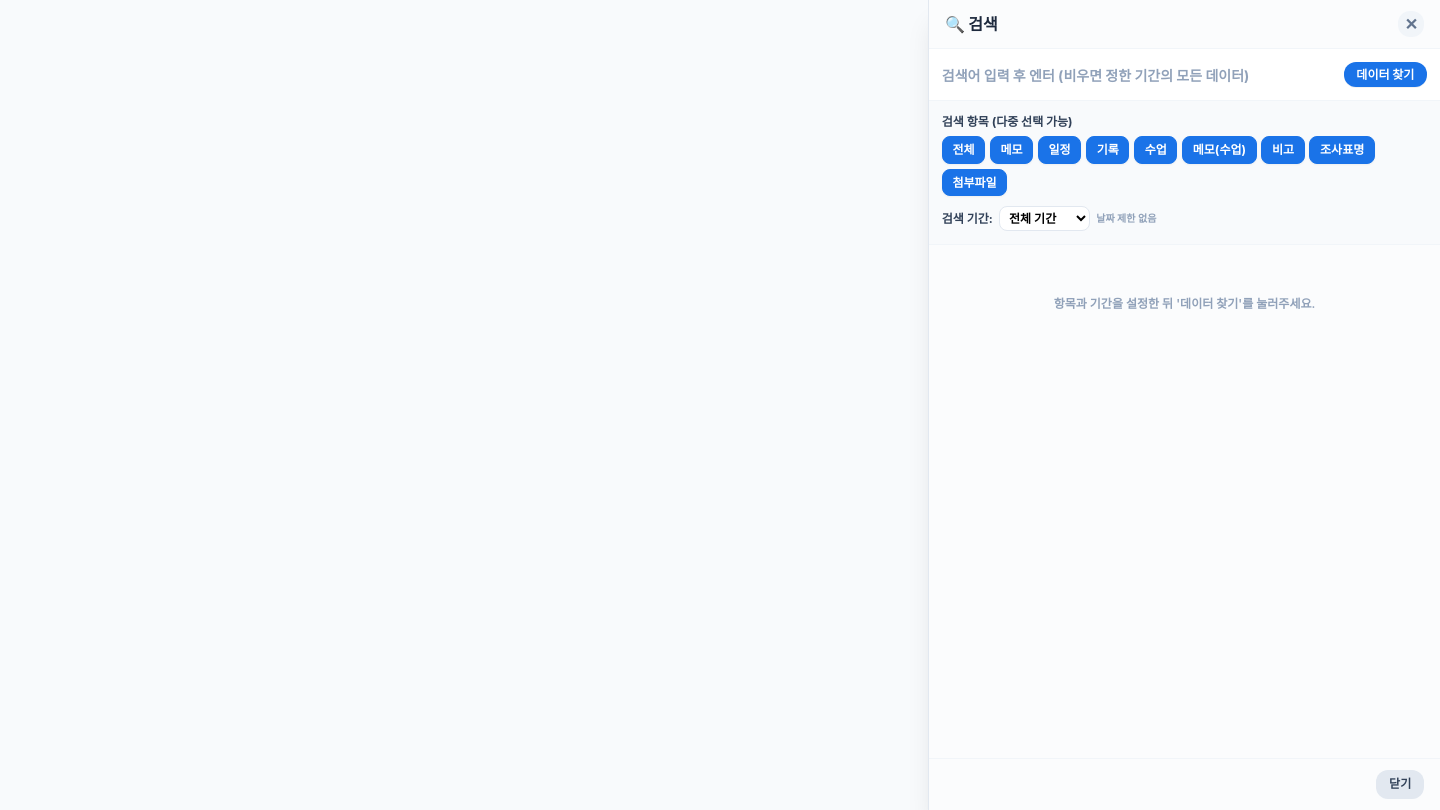
Test: 검색 - 결과가 아주 많을 때 › 찾은 건수는 다 세되 화면에는 앞에서부터 조금씩만 그린다
Select "1학기" in the dropdown at (1044, 219), box [999,206,1090,231]
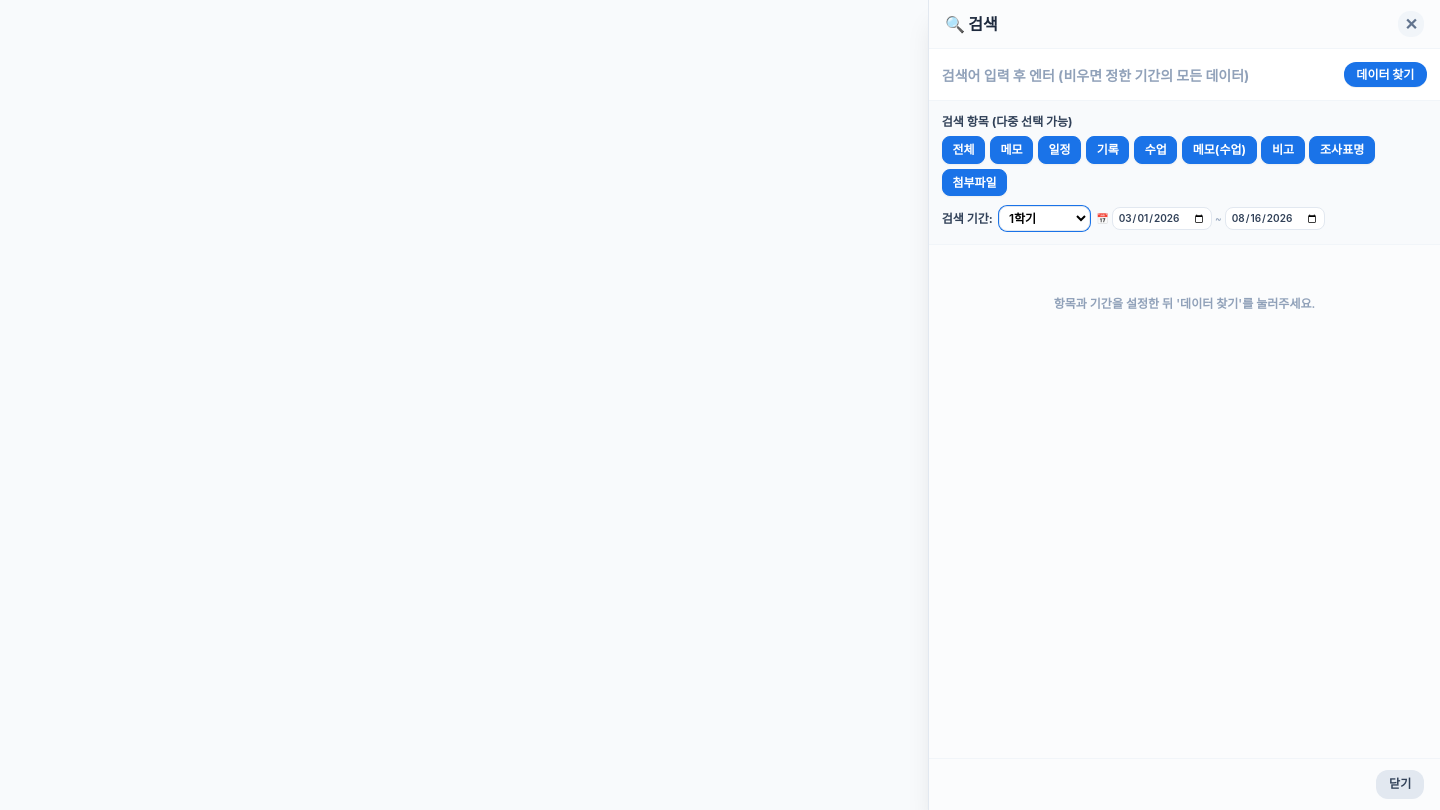
Click the button "데이터 찾기" at (1385, 75), box [1344,62,1427,87]
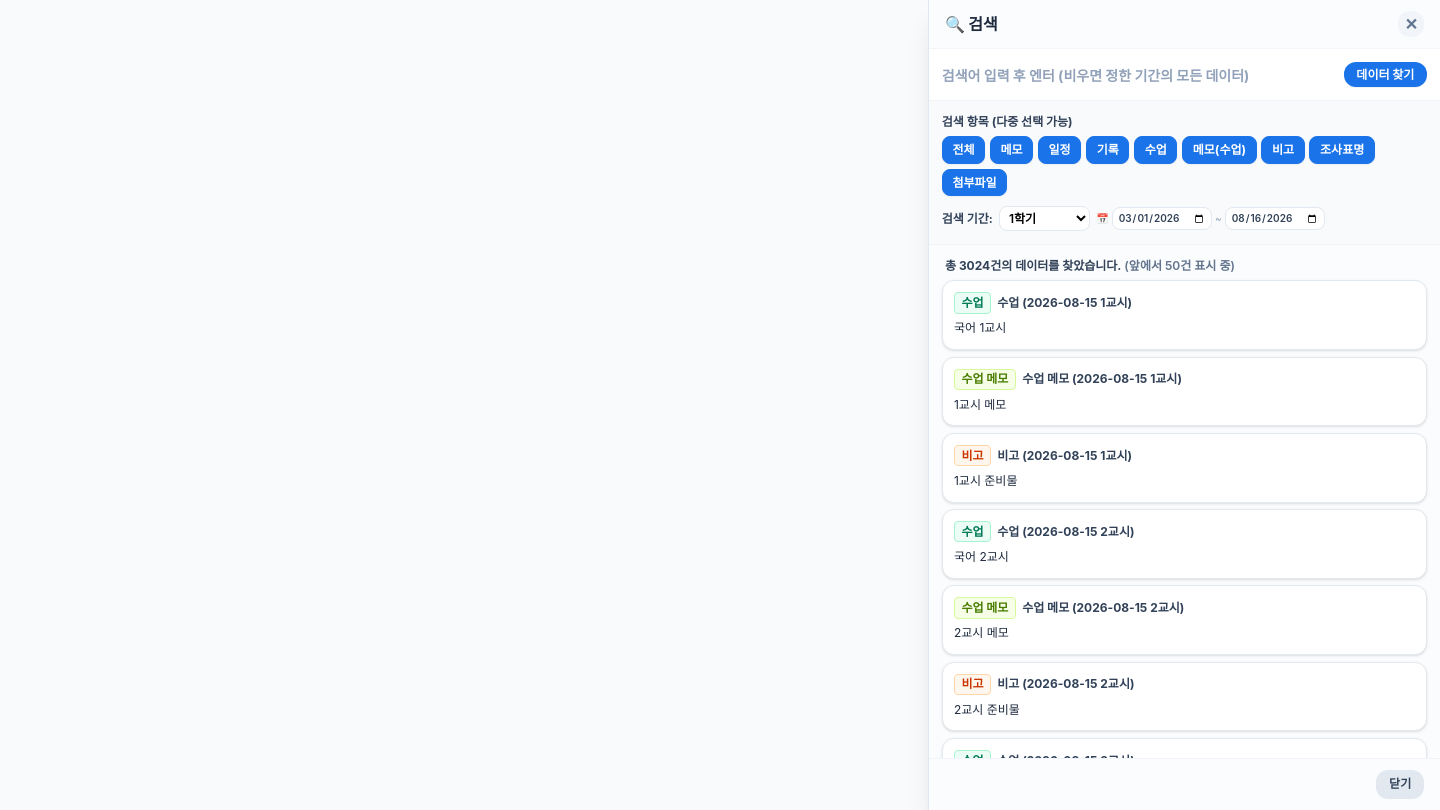
Now the text "총 3024건의 데이터를 찾았습니다. (앞에서 50건 표시 중)" is shown, box [945,258,1235,273]
